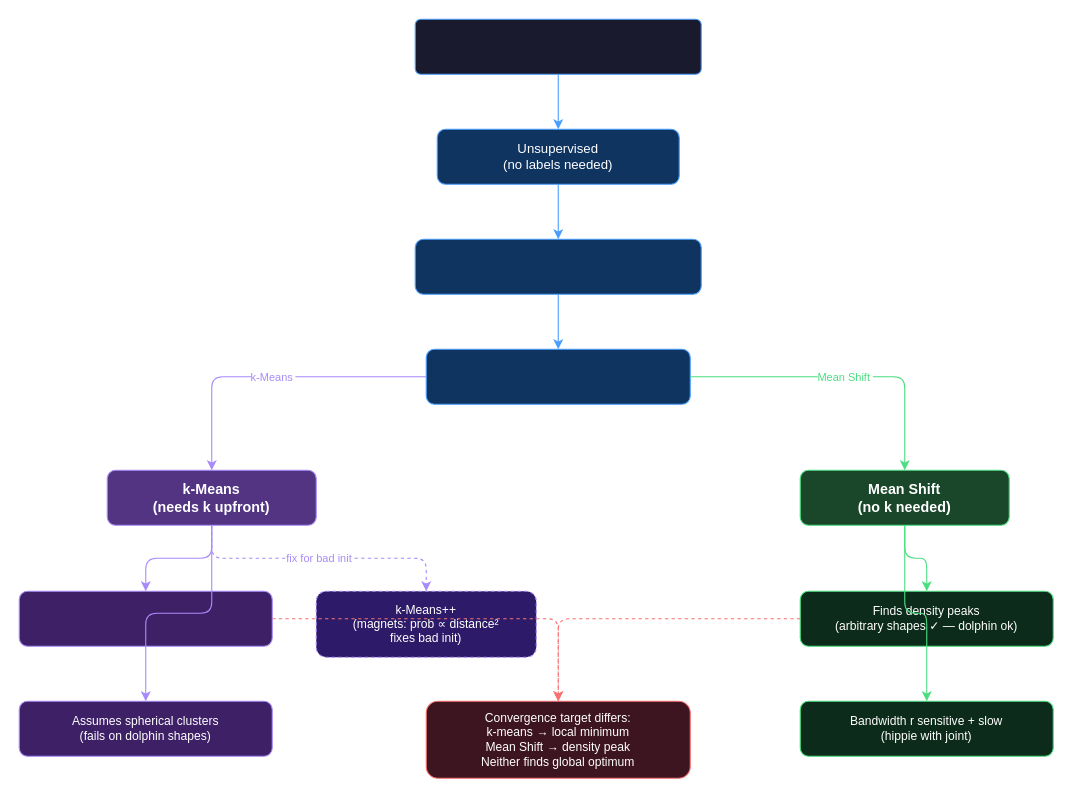
Some shapes in this 1073 by 798 pixel diagram are drawn without their labels. The shapes that lost their labels are listed below. From the top down, each one's centre as x and y in pixels, then its label:
At (557,46): "Clustering & Mixture Models".
At (557,266): "Find cluster representatives (move center to exact mean)".
At (557,376): "Always converge ✓ (but not to global optimum)".
At (145,618): "Local minimum — Napoleon (NP-hard to find global opt)".
